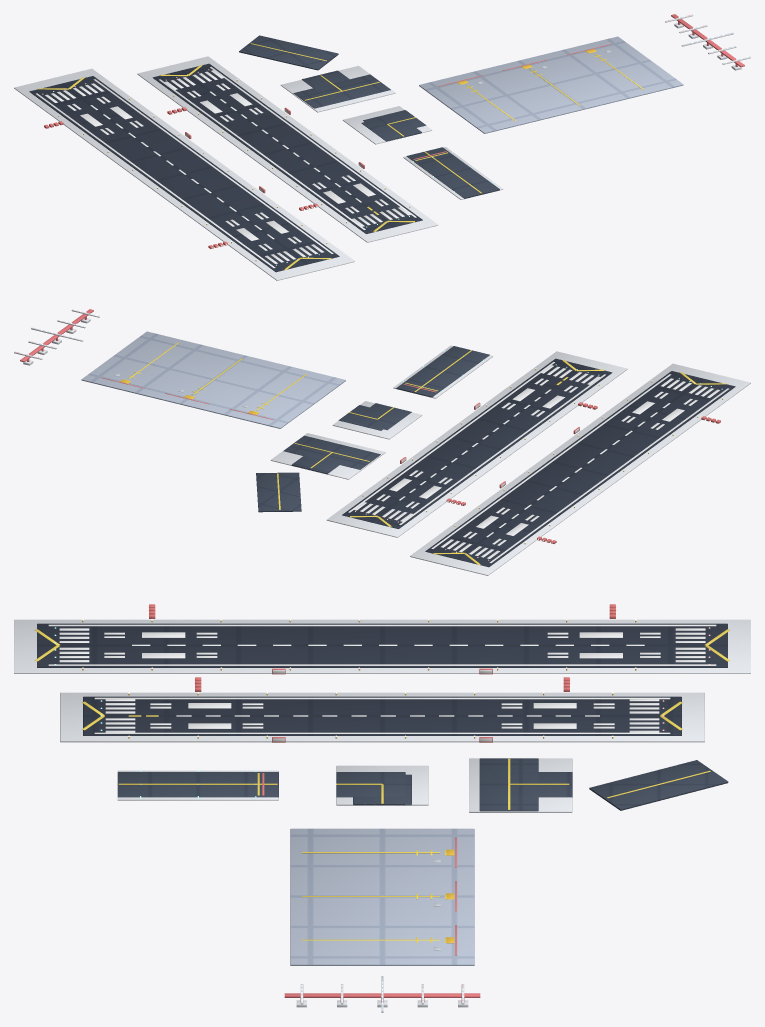
File: airport_runways.glb
The picture shows the model from 3 angles, top to bottom: view 1: azimuth 30°, elevation 25°; view 2: azimuth 150°, elevation 25°; view 3: azimuth 270°, elevation 25°; orthographic projection. The views are drawn at different scales.
Visible parts, largest first — view 1: Runway_09L_27R_Mesh, Runway_09R_27L_Mesh, Apron_GatePad_Mesh, Taxiway_Intersection_Mesh, Taxiway_Straight_Mesh, Taxiway_Curve_Mesh, Taxiway_RapidExit_Mesh, Approach_Light_Bridge_Mesh; view 2: Runway_09L_27R_Mesh, Runway_09R_27L_Mesh, Apron_GatePad_Mesh, Taxiway_Intersection_Mesh, Taxiway_Straight_Mesh, Taxiway_Curve_Mesh, Taxiway_RapidExit_Mesh, Approach_Light_Bridge_Mesh; view 3: Runway_09L_27R_Mesh, Runway_09R_27L_Mesh, Apron_GatePad_Mesh, Taxiway_Intersection_Mesh, Taxiway_Straight_Mesh, Taxiway_Curve_Mesh, Taxiway_RapidExit_Mesh, Approach_Light_Bridge_Mesh.
Part boxes in pixels (x1,y1,x2,y2): Runway_09L_27R_Mesh: (14, 68, 354, 280); Runway_09R_27L_Mesh: (137, 56, 438, 242); Apron_GatePad_Mesh: (419, 36, 683, 133); Taxiway_Intersection_Mesh: (280, 65, 395, 112); Taxiway_Straight_Mesh: (403, 147, 503, 199); Taxiway_Curve_Mesh: (342, 106, 432, 144); Taxiway_RapidExit_Mesh: (239, 35, 338, 70); Approach_Light_Bridge_Mesh: (665, 14, 750, 70); Runway_09L_27R_Mesh: (410, 363, 750, 575); Runway_09R_27L_Mesh: (326, 351, 627, 537); Apron_GatePad_Mesh: (81, 331, 345, 428); Taxiway_Intersection_Mesh: (270, 433, 385, 479); Taxiway_Straight_Mesh: (393, 345, 493, 398); Taxiway_Curve_Mesh: (332, 401, 422, 439); Taxiway_RapidExit_Mesh: (256, 472, 301, 512); Approach_Light_Bridge_Mesh: (14, 309, 99, 365); Runway_09L_27R_Mesh: (14, 604, 750, 674); Runway_09R_27L_Mesh: (60, 677, 704, 742); Apron_GatePad_Mesh: (290, 828, 474, 965); Taxiway_Intersection_Mesh: (469, 758, 572, 812); Taxiway_Straight_Mesh: (117, 769, 278, 800); Taxiway_Curve_Mesh: (336, 765, 428, 805); Taxiway_RapidExit_Mesh: (589, 760, 728, 810); Approach_Light_Bridge_Mesh: (284, 976, 480, 1012).
Size of the model in its own units: 170 by 2.52 by 128.
15 materials, 4 textured.
